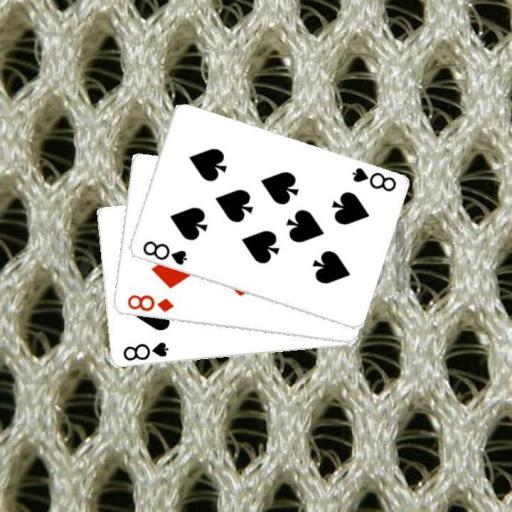card-corner: (348, 164, 398, 194), (138, 238, 188, 266), (119, 339, 170, 363), (124, 292, 175, 314)
